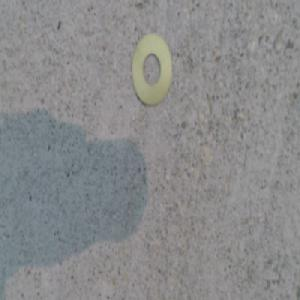Washer: (129, 31, 174, 109)
